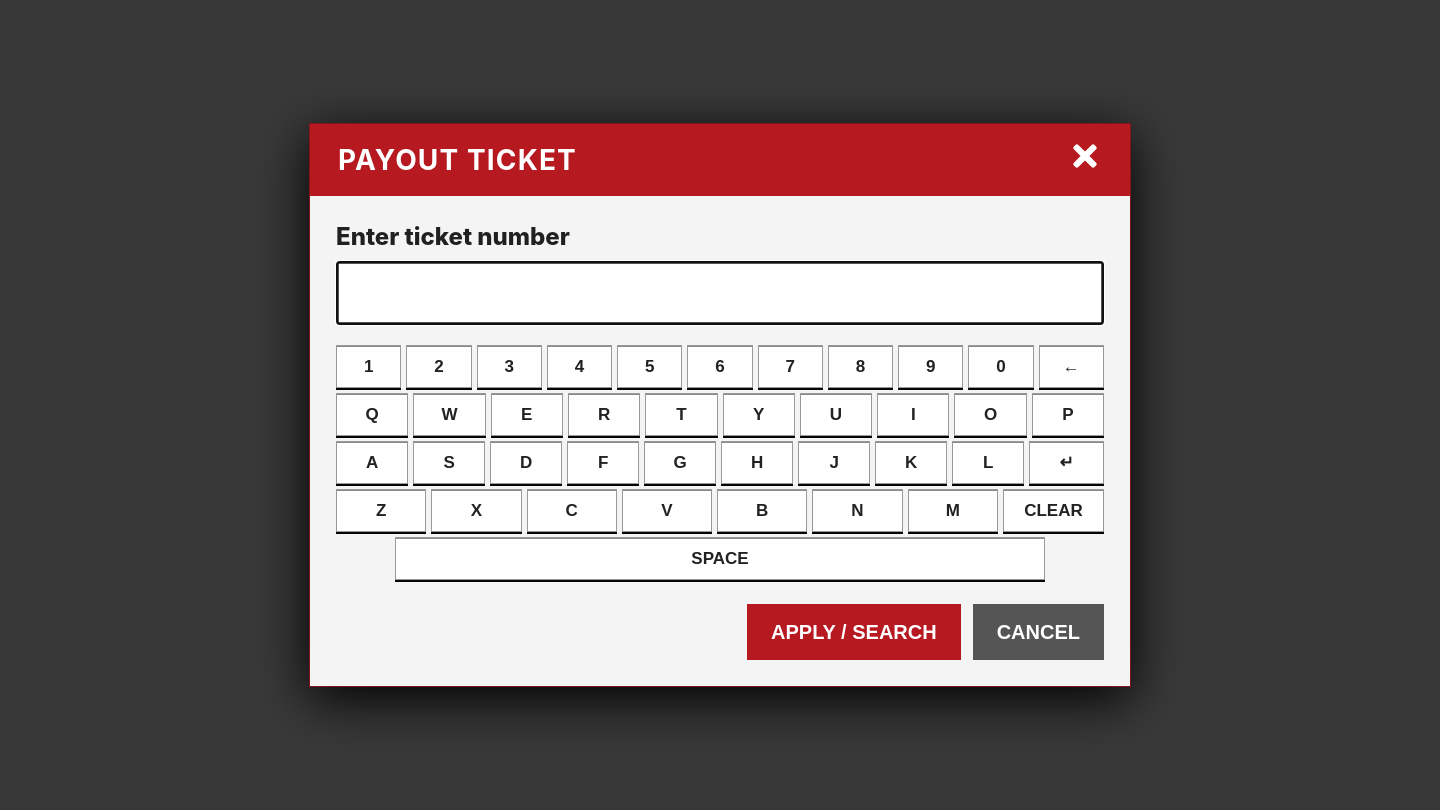
prevents duplicate lookup clicks
In the field labelled "Enter ticket number": (720, 293) [336,261,1104,325], type "VT-ABC"
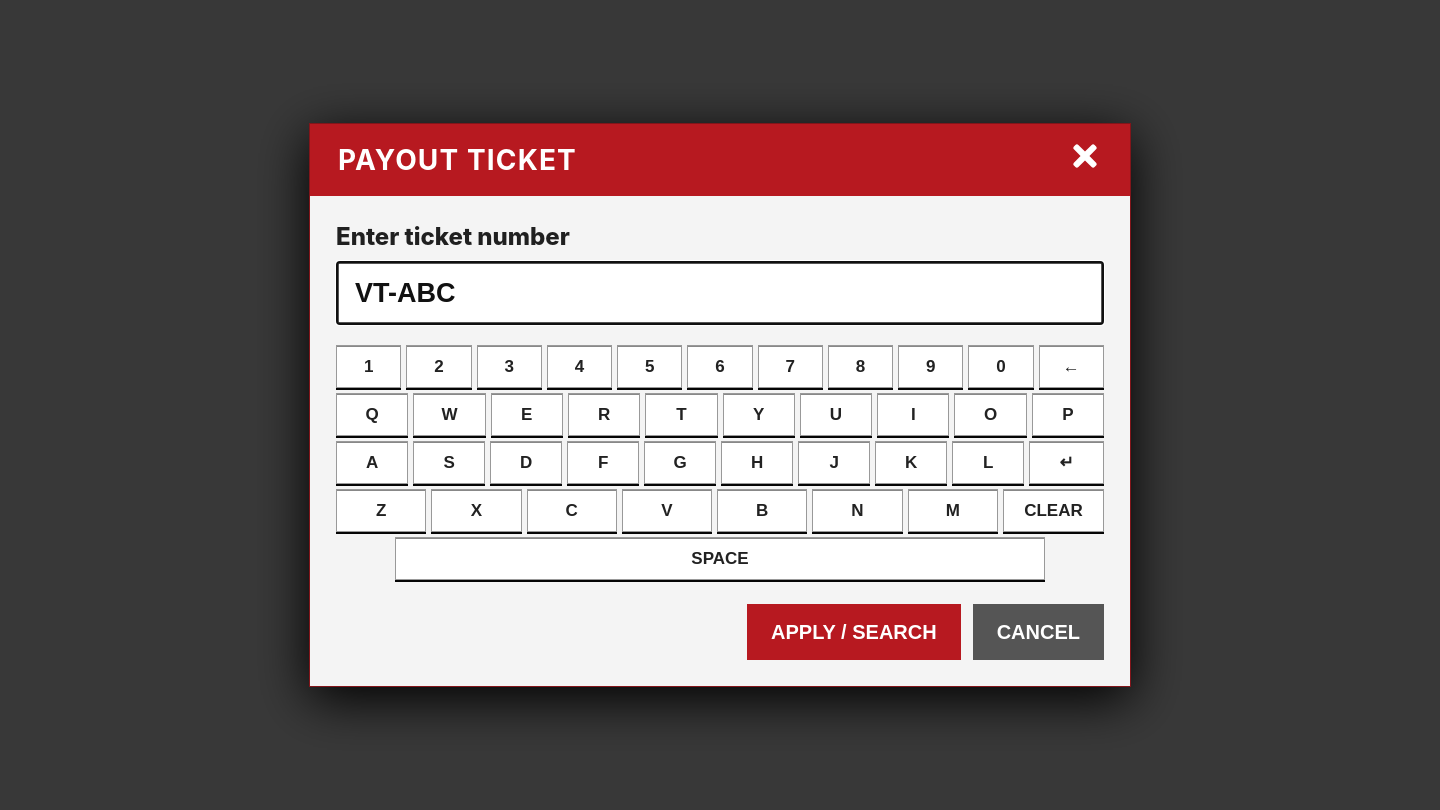
Click the button "APPLY / SEARCH": (854, 632) [747,604,961,660]
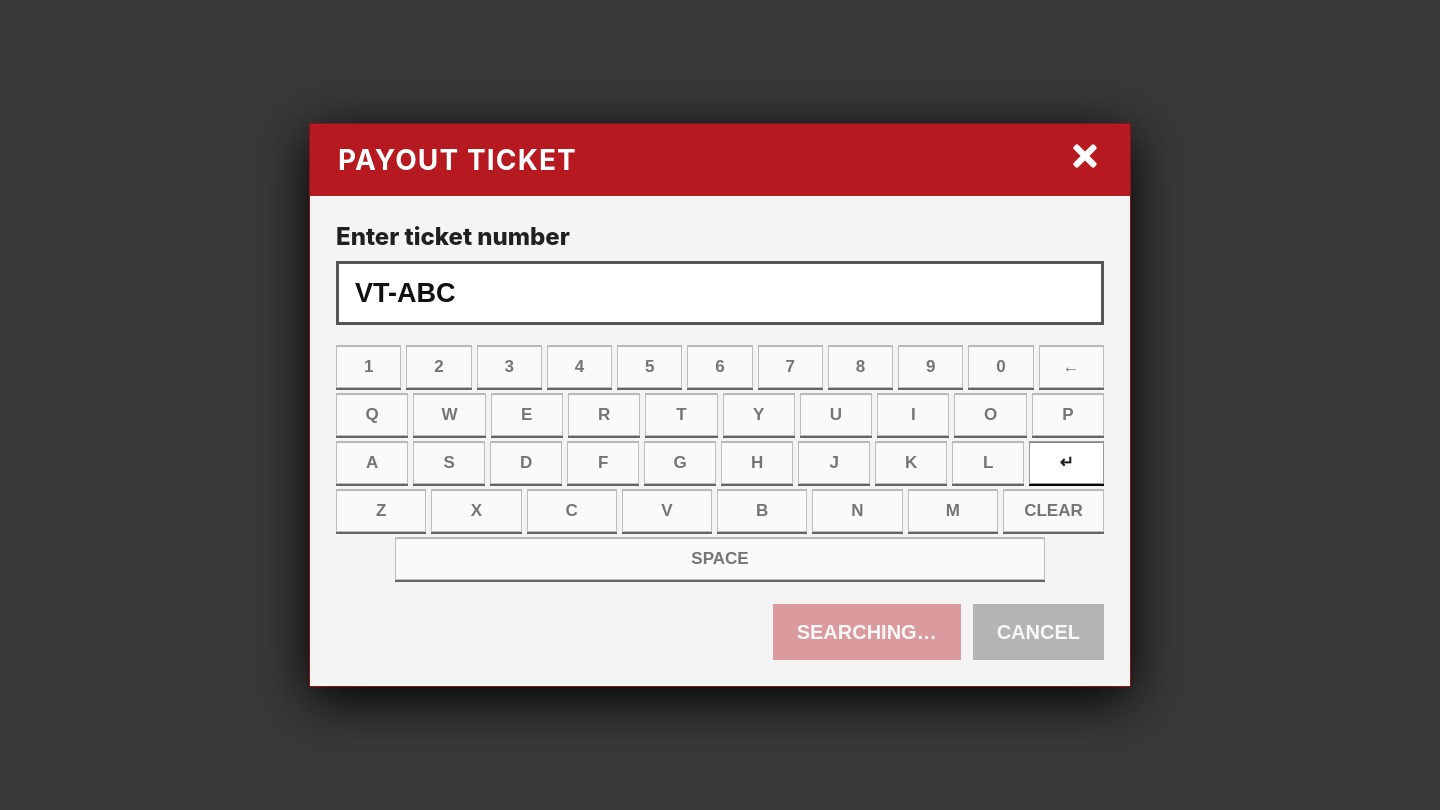
Click the button named "APPLY / SEARCH": (867, 632) [773,604,961,660]
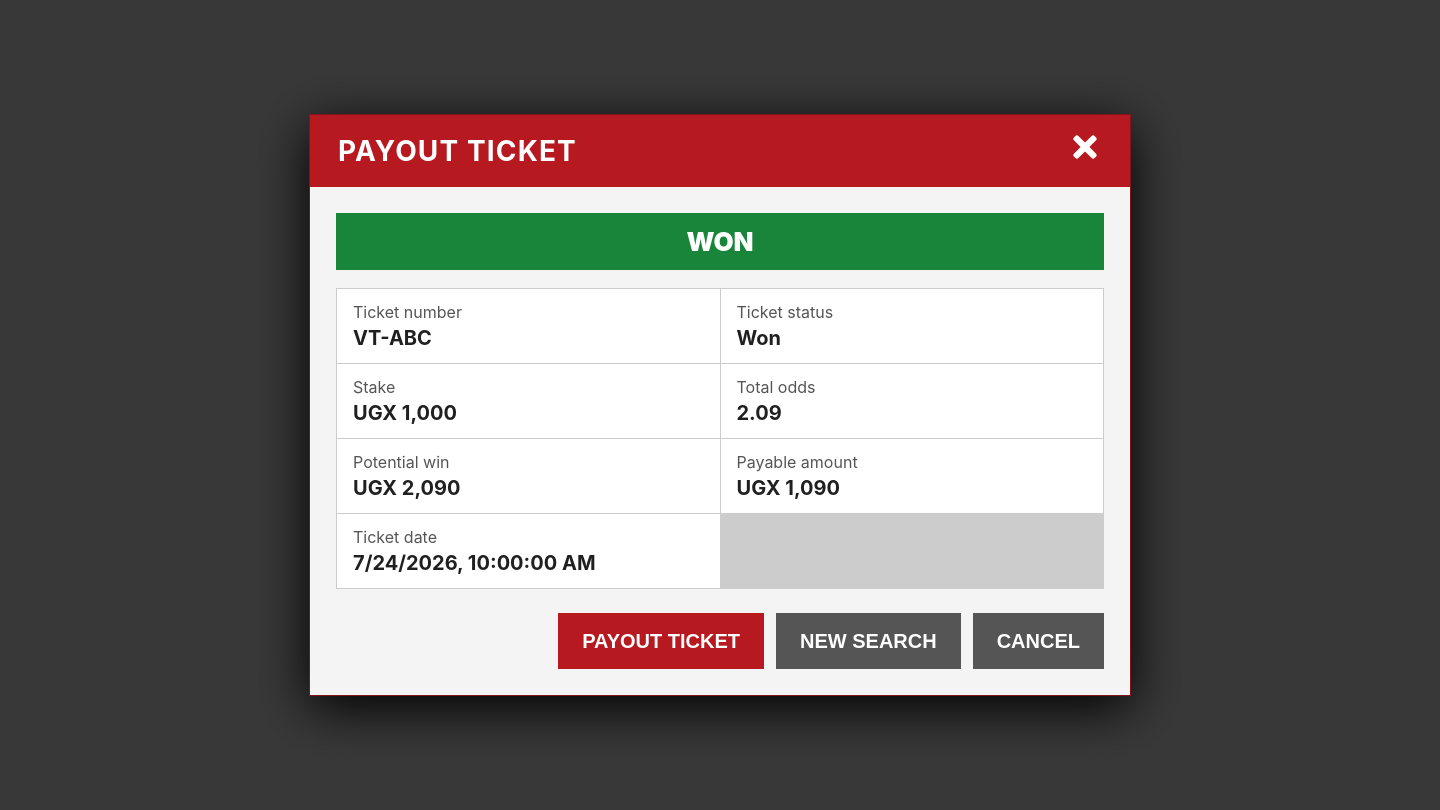
Check: the button "PAYOUT TICKET" is enabled, box [558,613,764,669]
